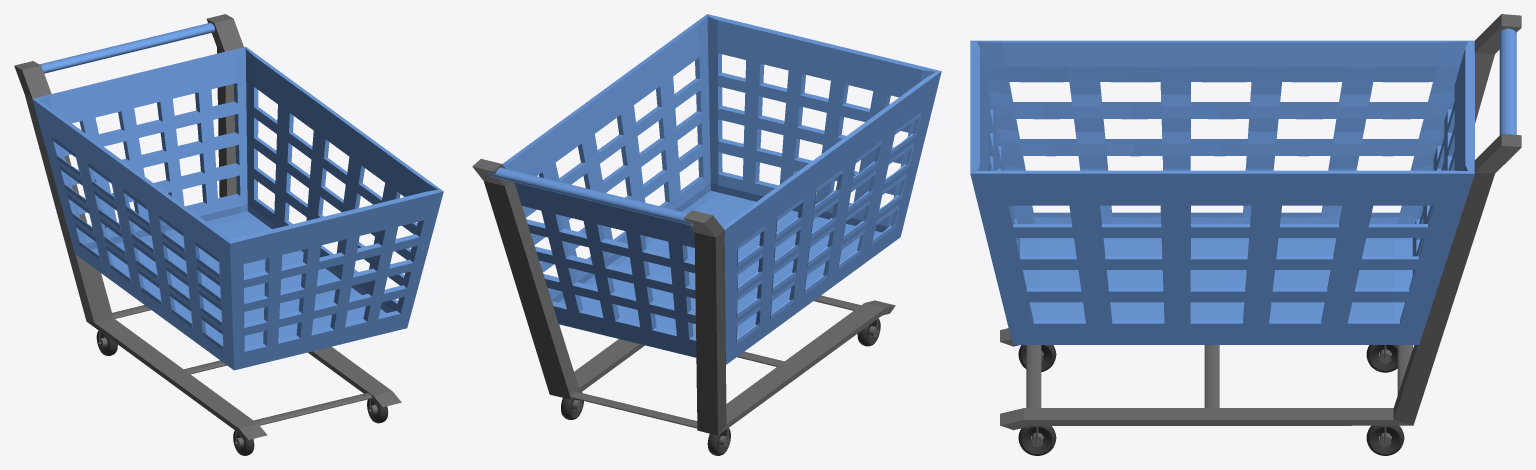
File: PanierEpicerie.fbx
3 views of the same model, side by side, from view 1: azimuth 30°, elevation 25°; view 2: azimuth 150°, elevation 25°; view 3: azimuth 270°, elevation 25° (orthographic). The views are drawn at different scales.
Visible parts, largest first — view 1: Cube, Plane, Cylinder.015, Cylinder.012; view 2: Cube, Plane, Cylinder.015, Cylinder.013; view 3: Cube, Plane, Cylinder.015, Cylinder.012, Cylinder.014, Torus.001, Torus.002, Torus.
Boxes of the visible parts, x1,y1,x2,y2 form: Cube: (32, 46, 443, 370); Plane: (14, 14, 401, 439); Cylinder.015: (40, 22, 214, 73); Cylinder.012: (254, 392, 372, 425); Cube: (502, 14, 941, 364); Plane: (472, 159, 895, 435); Cylinder.015: (487, 167, 693, 225); Cylinder.013: (570, 391, 697, 428); Cube: (970, 40, 1474, 344); Plane: (1000, 14, 1521, 430); Cylinder.015: (1499, 28, 1516, 134); Cylinder.012: (1026, 345, 1041, 407); Cylinder.014: (1204, 345, 1219, 407); Torus.001: (1366, 425, 1404, 455); Torus.002: (1018, 426, 1056, 455); Torus: (1366, 345, 1397, 372).
Size of the model in its own units: 525 by 613 by 920.
